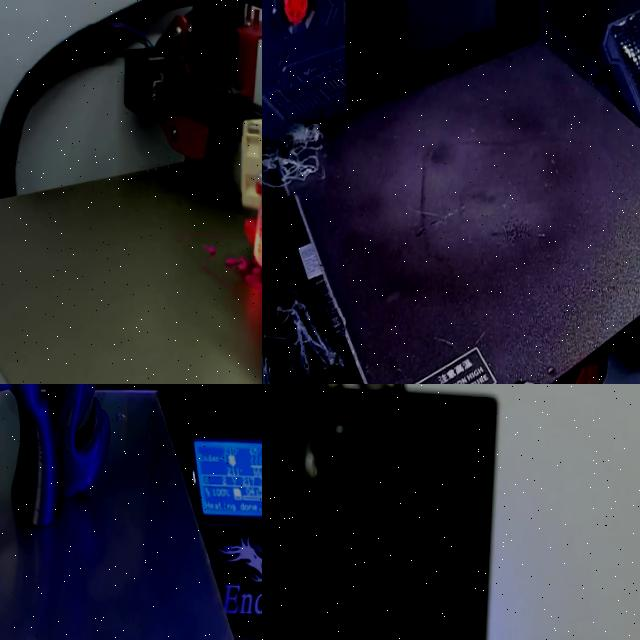spaghetti: (262, 291, 344, 384), (262, 123, 328, 196), (224, 256, 262, 293), (203, 245, 216, 255)
